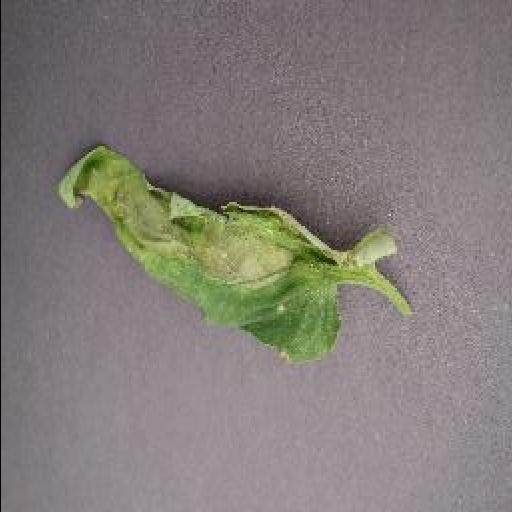disease_tomato: (54, 147, 342, 365)
